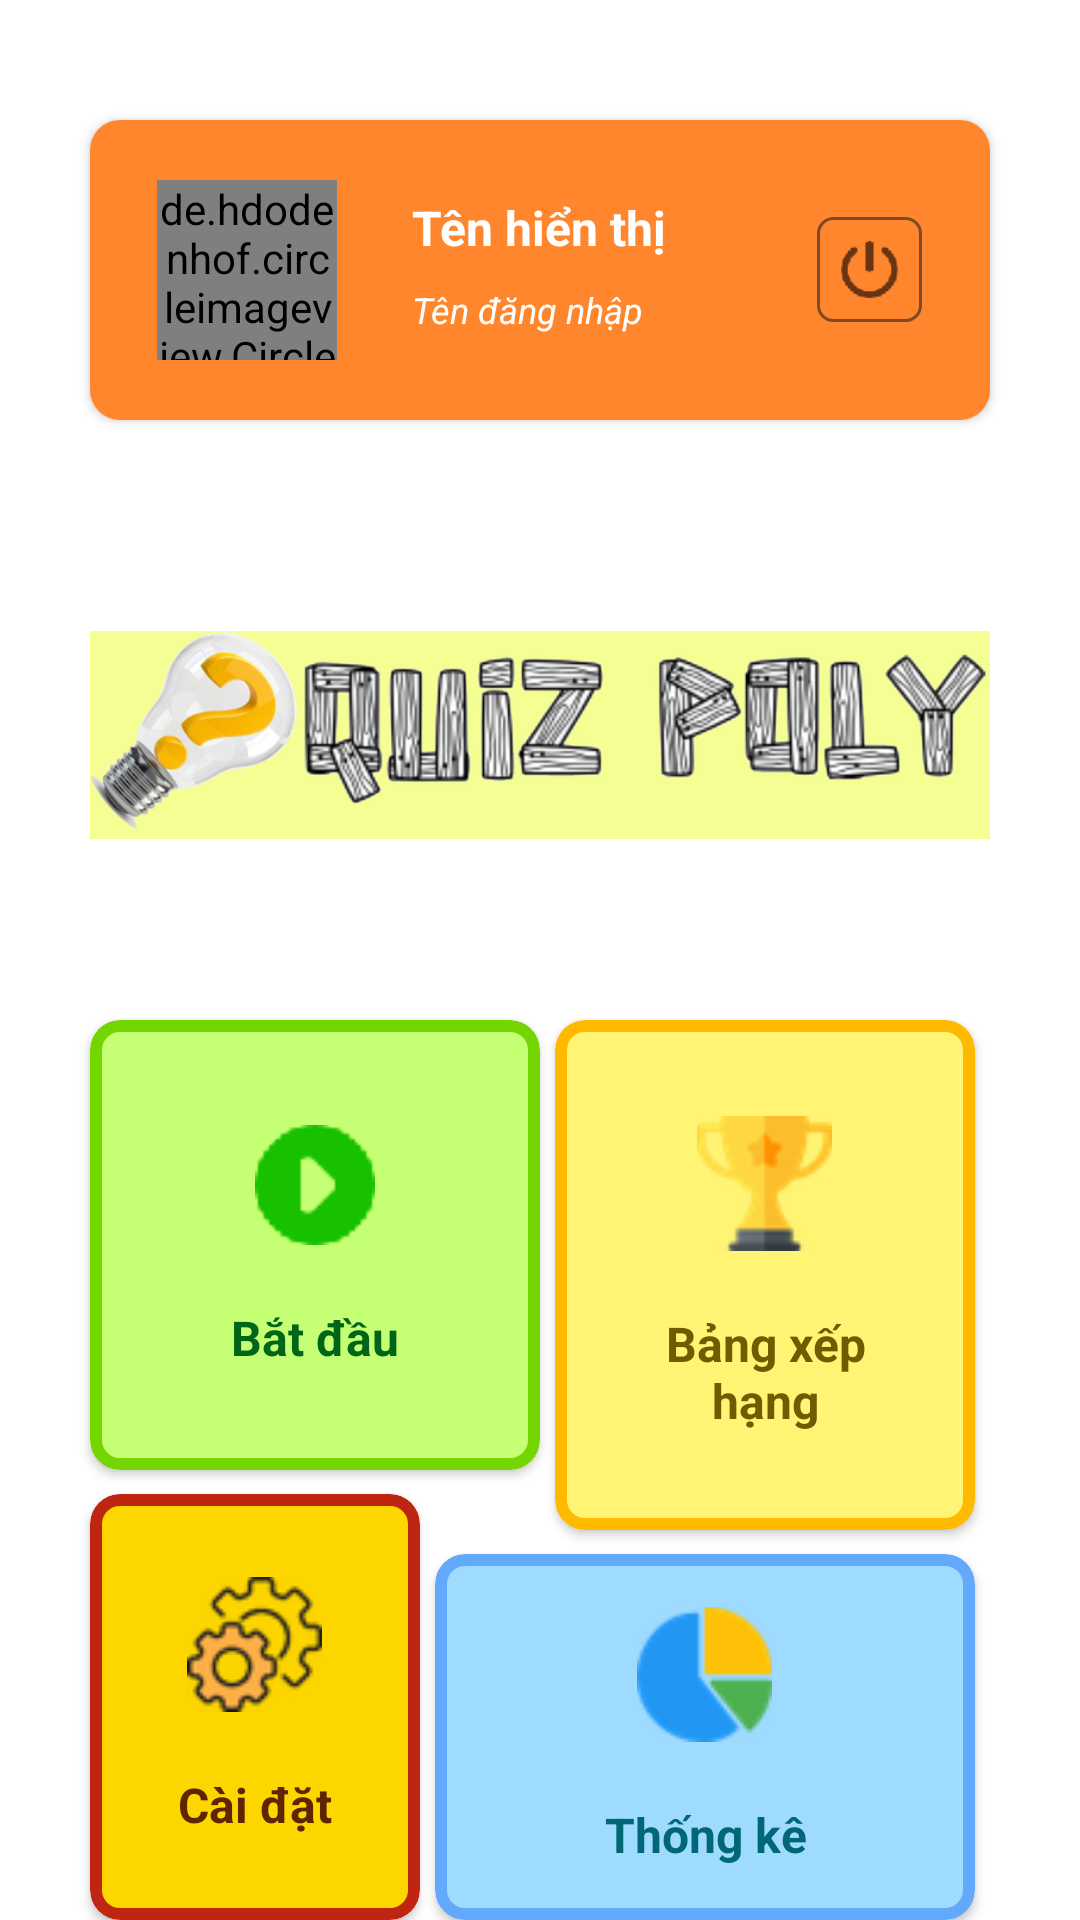

Locate icon controls on the screen. Image size 1080px×1920px, boxes as (x1,y1,x2,y2).
pie chart: (637,1607,772,1742)
play: (255,1125,375,1245)
settings: (187,1577,322,1712)
trophy: (697,1116,832,1251)
